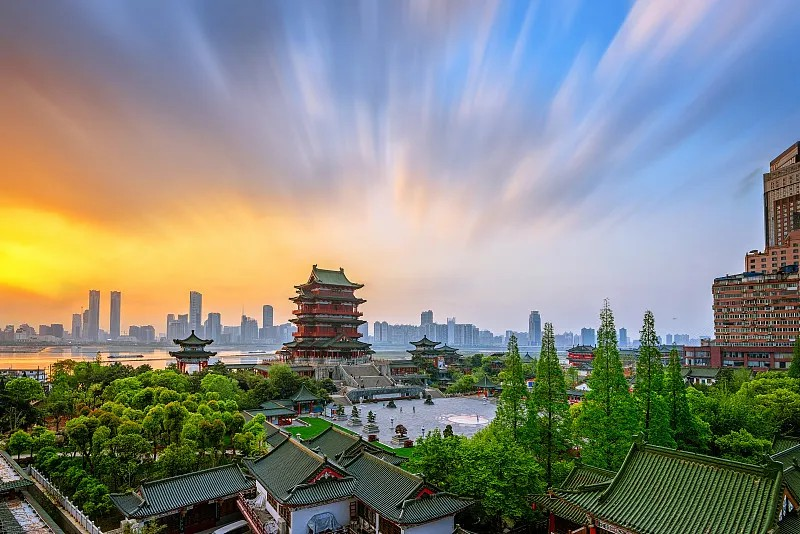Teng: (275, 264, 377, 364)
